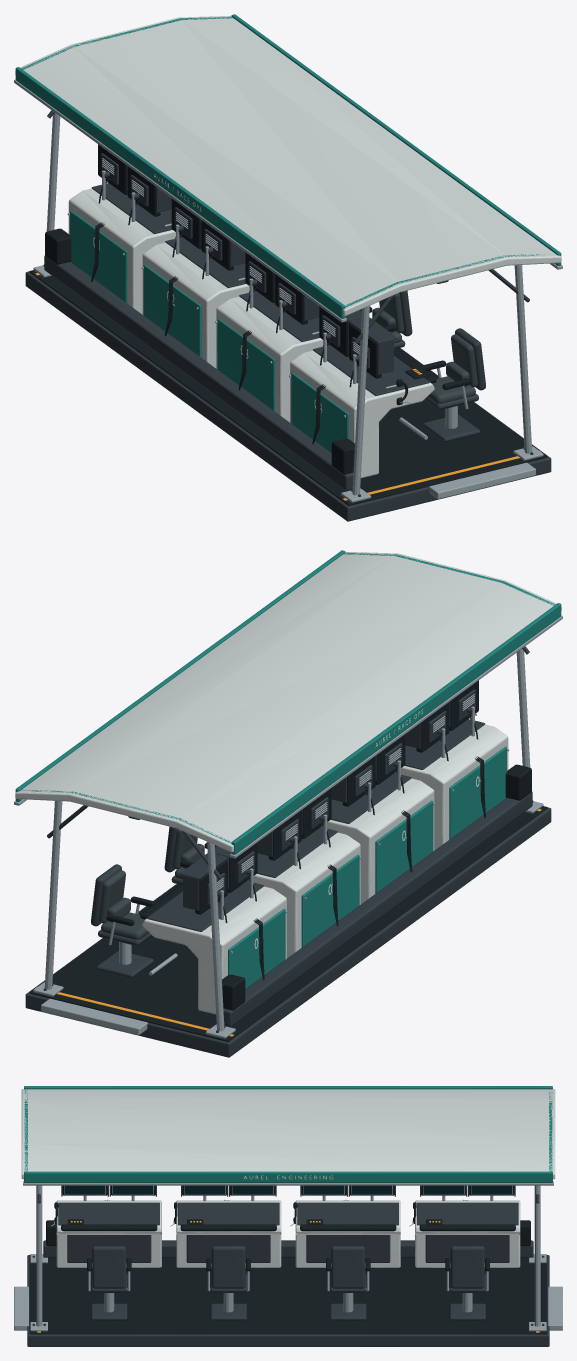
Rendered from aurel-pit-wall-command-station.glb.
3 views of the same model, one above another, from view 1: azimuth 30°, elevation 25°; view 2: azimuth 150°, elevation 25°; view 3: azimuth 270°, elevation 25° (orthographic). The views are drawn at different scales.
Visible parts, largest first — view 1: LOD0_PITWALL_CeramicShell, LOD0_PITWALL_GraphiteMetal, LOD0_PITWALL_RubberPolymer, LOD0_PITWALL_AurelEnamel, LOD0_PITWALL_BrushedAlloy, LOD0_PITWALL_WovenUpholstery, LOD1_PITWALL_GraphiteMetal, LOD2_PITWALL_BrushedAlloy, LOD1_PITWALL_CeramicShell, LOD1_PITWALL_AurelEnamel; view 2: LOD0_PITWALL_CeramicShell, LOD0_PITWALL_GraphiteMetal, LOD0_PITWALL_RubberPolymer, LOD0_PITWALL_AurelEnamel, LOD0_PITWALL_BrushedAlloy, LOD0_PITWALL_WovenUpholstery, LOD2_PITWALL_BrushedAlloy, LOD1_PITWALL_GraphiteMetal, LOD1_PITWALL_CeramicShell, LOD1_PITWALL_AurelEnamel; view 3: LOD0_PITWALL_CeramicShell, LOD0_PITWALL_GraphiteMetal, LOD0_PITWALL_RubberPolymer, LOD0_PITWALL_AurelEnamel, LOD0_PITWALL_BrushedAlloy, LOD0_PITWALL_ScreenSurface, LOD2_PITWALL_BrushedAlloy, LOD1_PITWALL_GraphiteMetal, LOD1_PITWALL_RubberPolymer, LOD1_PITWALL_AurelEnamel, LOD1_PITWALL_CeramicShell.
Boxes of the visible parts, x1,y1,x2,y2 form: LOD0_PITWALL_CeramicShell: [15, 15, 561, 478]; LOD0_PITWALL_GraphiteMetal: [25, 110, 551, 521]; LOD0_PITWALL_RubberPolymer: [29, 144, 547, 505]; LOD0_PITWALL_AurelEnamel: [15, 14, 561, 452]; LOD0_PITWALL_BrushedAlloy: [14, 79, 562, 502]; LOD0_PITWALL_WovenUpholstery: [372, 293, 477, 403]; LOD1_PITWALL_GraphiteMetal: [26, 154, 549, 519]; LOD2_PITWALL_BrushedAlloy: [47, 113, 532, 494]; LOD1_PITWALL_CeramicShell: [69, 200, 560, 478]; LOD1_PITWALL_AurelEnamel: [16, 15, 558, 413]; LOD0_PITWALL_CeramicShell: [15, 551, 561, 1014]; LOD0_PITWALL_GraphiteMetal: [25, 646, 551, 1057]; LOD0_PITWALL_RubberPolymer: [29, 680, 547, 1041]; LOD0_PITWALL_AurelEnamel: [15, 550, 561, 988]; LOD0_PITWALL_BrushedAlloy: [14, 615, 562, 1038]; LOD0_PITWALL_WovenUpholstery: [99, 829, 204, 939]; LOD2_PITWALL_BrushedAlloy: [44, 652, 524, 1029]; LOD1_PITWALL_GraphiteMetal: [27, 690, 550, 1055]; LOD1_PITWALL_CeramicShell: [16, 736, 507, 1014]; LOD1_PITWALL_AurelEnamel: [18, 551, 560, 949]; LOD0_PITWALL_CeramicShell: [21, 1089, 555, 1267]; LOD0_PITWALL_GraphiteMetal: [27, 1185, 549, 1346]; LOD0_PITWALL_RubberPolymer: [29, 1185, 547, 1334]; LOD0_PITWALL_AurelEnamel: [24, 1086, 552, 1182]; LOD0_PITWALL_BrushedAlloy: [14, 1181, 562, 1331]; LOD0_PITWALL_ScreenSurface: [65, 1185, 511, 1194]; LOD2_PITWALL_BrushedAlloy: [36, 1185, 540, 1326]; LOD1_PITWALL_GraphiteMetal: [45, 1186, 531, 1320]; LOD1_PITWALL_RubberPolymer: [48, 1186, 528, 1270]; LOD1_PITWALL_AurelEnamel: [24, 1086, 552, 1181]; LOD1_PITWALL_CeramicShell: [21, 1089, 555, 1266].
Size of the model in its own units: 3.04 by 2.99 by 8.04.
